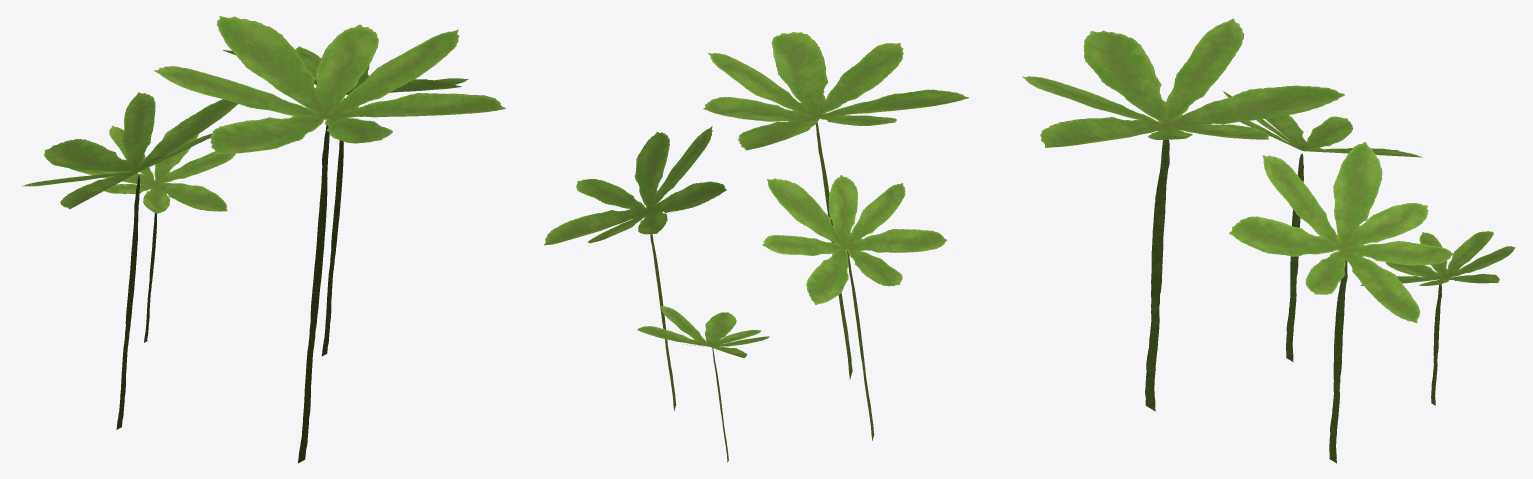
The model's file is SM_Plant_05.fbx.
The picture shows the model from 3 angles, left to right: view 1: azimuth 30°, elevation 25°; view 2: azimuth 150°, elevation 25°; view 3: azimuth 270°, elevation 25°; orthographic projection. The views are drawn at different scales.
Visible parts, largest first — view 1: SM_Plant_05_LOD0; view 2: SM_Plant_05_LOD0; view 3: SM_Plant_05_LOD0.
Boxes of the visible parts, x1,y1,x2,y2 form: SM_Plant_05_LOD0: (22,16,505,463); SM_Plant_05_LOD0: (544,32,968,462); SM_Plant_05_LOD0: (1022,18,1515,463).
Size of the model in its own units: 25.79 by 26.94 by 20.22.
